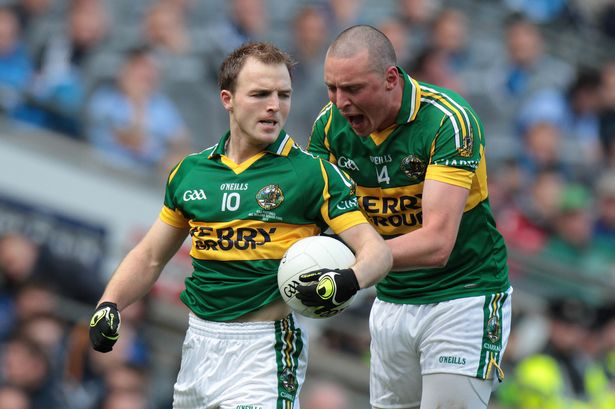ball: (274, 229, 350, 316)
player: (295, 4, 523, 392), (144, 28, 344, 397)
